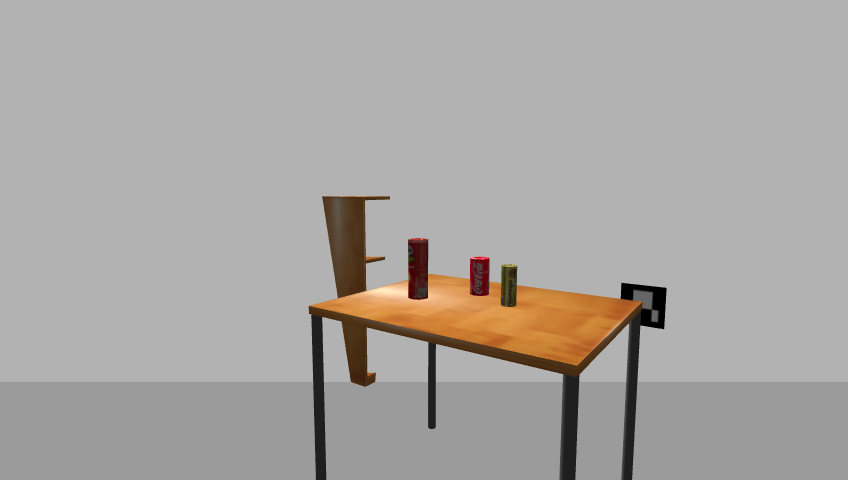aruco marker: (615, 281, 672, 331)
biscuits pack: (501, 264, 519, 309)
bookshelf: (318, 194, 394, 391)
coke can: (468, 256, 491, 298)
dinner table: (301, 278, 652, 480)
pringles can: (405, 237, 431, 302)
